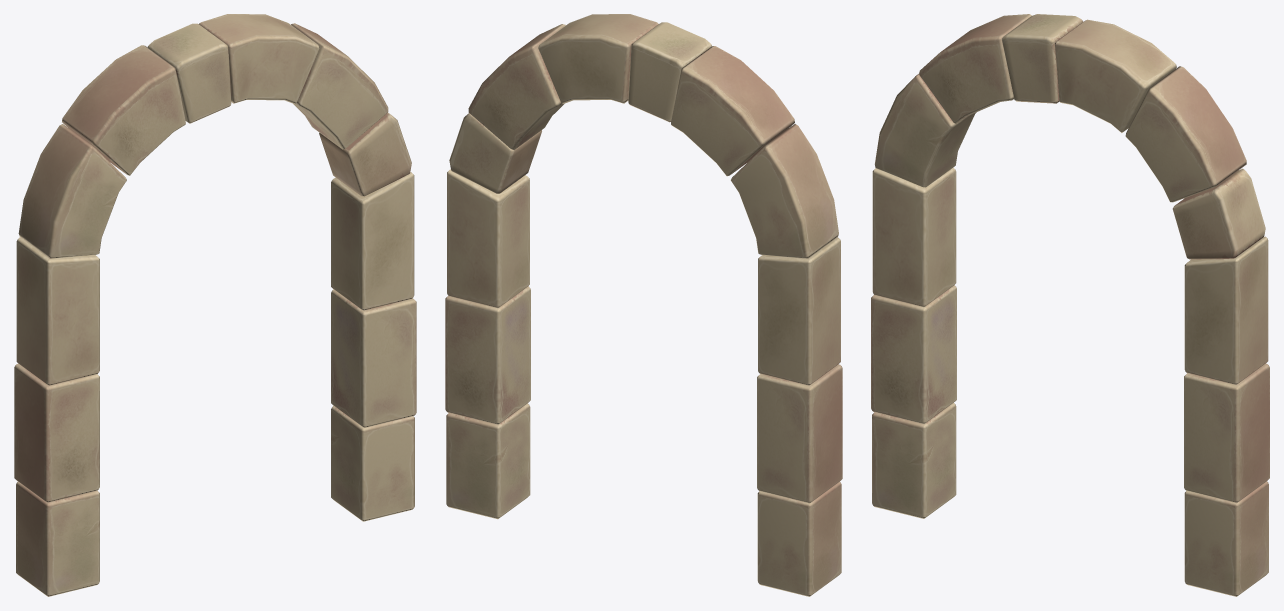
The model's file is exteriorarch.fbx.
3 renders of one model, left to right at view 1: azimuth 30°, elevation 25°; view 2: azimuth 150°, elevation 25°; view 3: azimuth 330°, elevation 25°, orthographic.
Visible parts, largest first — view 1: exteriorarch_LOD0; view 2: exteriorarch_LOD0; view 3: exteriorarch_LOD0.
Boxes of the visible parts, <box> form: exteriorarch_LOD0: <box>14,14,416,596</box>; exteriorarch_LOD0: <box>445,14,842,596</box>; exteriorarch_LOD0: <box>871,14,1269,596</box>.
Size of the model in its own units: 2.63 by 3.48 by 0.4506.
